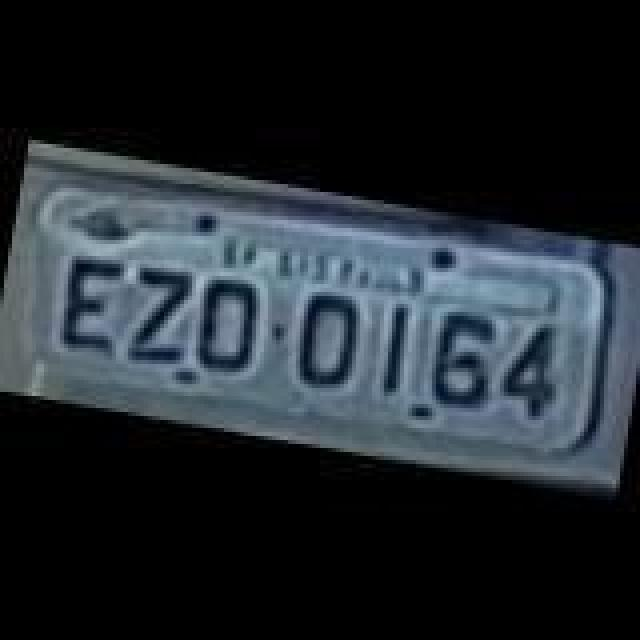1: (360, 290, 424, 398)
4: (490, 314, 566, 422)
6: (422, 300, 506, 420)
E: (48, 252, 128, 356)
O: (286, 284, 370, 396), (182, 272, 266, 384)
Z: (116, 262, 204, 370)
